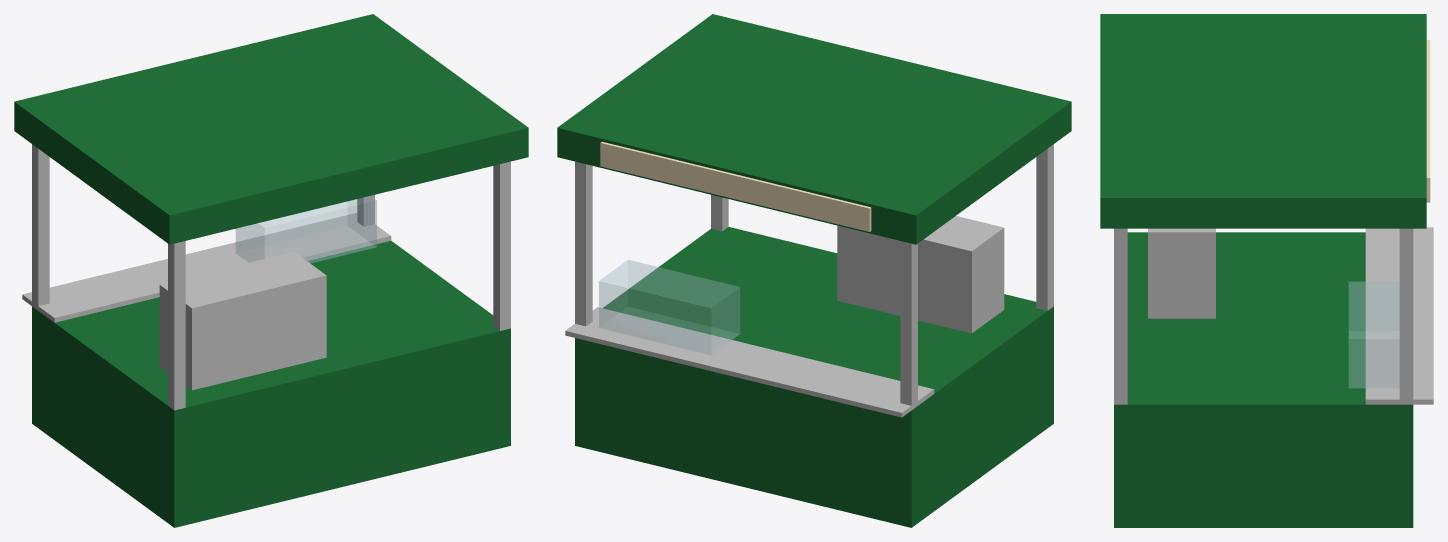
The model's file is station.rail.kiosk.glb.
The picture shows the model from 3 angles, left to right: view 1: azimuth 30°, elevation 25°; view 2: azimuth 150°, elevation 25°; view 3: azimuth 270°, elevation 25°; orthographic projection. The views are drawn at different scales.
Parts seen in each view (by area): view 1: main__plastic_green, main__steel_stainless, main__glass; view 2: main__plastic_green, main__steel_stainless, main__glass, main__glow; view 3: main__plastic_green, main__steel_stainless, main__glass, main__glow.
Boxes of the visible parts, <box> form: main__plastic_green: <box>14,14,528,527</box>; main__steel_stainless: <box>22,144,510,410</box>; main__glass: <box>236,196,376,263</box>; main__plastic_green: <box>557,14,1071,527</box>; main__steel_stainless: <box>565,144,1053,417</box>; main__glass: <box>599,260,739,354</box>; main__glow: <box>600,141,871,231</box>; main__plastic_green: <box>1100,14,1426,527</box>; main__steel_stainless: <box>1114,227,1433,404</box>; main__glass: <box>1349,282,1399,387</box>; main__glow: <box>1426,40,1430,202</box>.
Bounding box in the file's own units: 3.2 × 2.72 × 2.45.
